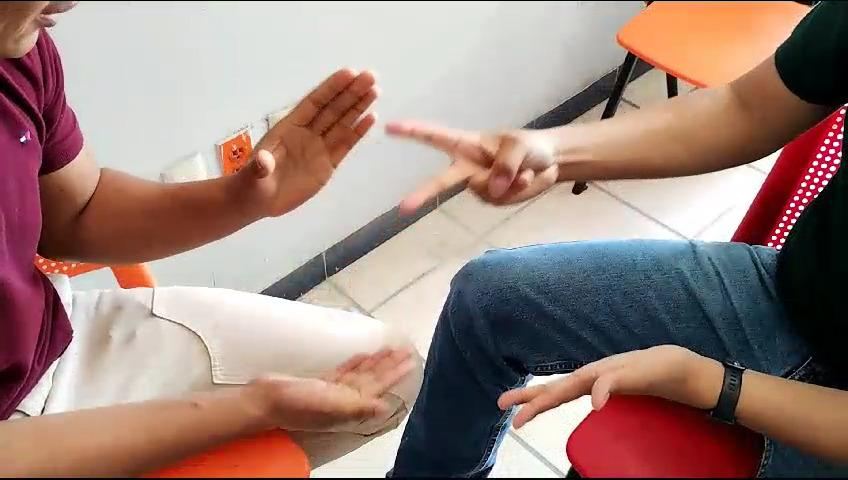Paper: (220, 63, 388, 238)
Scissor: (371, 105, 578, 227)
